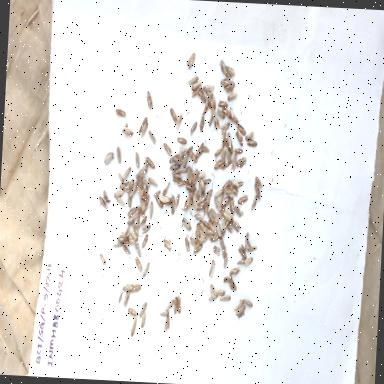pbw: (144, 88, 155, 110), (221, 78, 236, 94), (216, 199, 227, 219), (180, 192, 190, 214), (235, 153, 247, 171), (142, 154, 156, 169), (181, 216, 194, 232), (209, 205, 221, 222), (114, 144, 124, 164), (206, 258, 216, 278), (184, 50, 195, 68), (188, 86, 202, 100), (226, 181, 240, 195), (118, 178, 132, 192), (225, 277, 237, 293), (231, 216, 242, 233), (195, 198, 209, 211), (222, 207, 236, 220), (140, 260, 149, 280), (223, 144, 232, 164), (234, 296, 244, 314), (196, 88, 207, 104), (212, 112, 220, 134), (102, 150, 113, 166), (162, 313, 170, 335), (219, 118, 230, 134), (176, 142, 184, 164), (133, 150, 141, 172), (138, 300, 147, 319), (134, 172, 144, 189), (218, 158, 232, 170), (188, 234, 200, 248), (192, 210, 206, 222), (218, 292, 232, 304), (200, 214, 212, 228), (228, 264, 240, 278), (222, 186, 236, 198), (230, 152, 238, 173), (212, 157, 224, 171), (187, 186, 194, 210), (142, 180, 150, 201), (113, 107, 128, 118), (98, 195, 109, 210), (136, 215, 147, 230), (236, 242, 247, 257), (125, 177, 134, 195), (213, 220, 222, 238), (168, 194, 176, 214), (168, 107, 178, 123), (194, 142, 204, 158), (218, 58, 228, 74), (222, 136, 232, 152), (121, 166, 131, 182), (147, 128, 157, 144), (184, 164, 192, 184), (130, 316, 138, 336), (136, 163, 146, 179), (176, 162, 189, 174), (190, 78, 202, 91), (186, 73, 198, 86), (243, 128, 254, 142), (213, 144, 224, 158), (129, 180, 137, 199), (134, 182, 144, 197), (164, 297, 174, 312), (236, 121, 246, 136), (174, 112, 182, 130), (232, 178, 244, 190), (241, 255, 253, 267), (224, 64, 236, 76), (130, 282, 142, 294), (191, 167, 199, 185), (118, 229, 130, 241), (134, 256, 142, 274), (190, 192, 198, 210), (235, 130, 244, 146), (122, 125, 135, 136), (112, 188, 123, 201), (125, 213, 136, 226), (161, 237, 171, 251), (162, 142, 172, 156), (183, 182, 197, 192), (160, 182, 170, 196), (236, 304, 246, 318), (220, 194, 230, 208), (234, 203, 244, 217), (192, 243, 202, 257), (202, 82, 216, 92), (152, 194, 162, 208), (158, 194, 172, 204), (133, 241, 141, 258), (122, 290, 130, 307), (198, 219, 206, 236), (226, 90, 238, 101), (115, 196, 126, 208), (228, 194, 234, 216), (243, 297, 255, 308), (140, 222, 151, 234), (146, 174, 158, 185), (237, 193, 248, 205), (126, 306, 138, 317), (215, 108, 226, 120), (168, 161, 181, 171), (126, 205, 136, 218), (250, 194, 258, 210), (198, 175, 206, 191), (139, 122, 147, 138), (254, 184, 262, 200), (210, 106, 218, 122), (175, 296, 182, 314), (254, 175, 263, 189), (212, 187, 223, 198), (122, 244, 132, 256), (136, 204, 146, 216), (182, 144, 192, 156), (128, 229, 138, 241), (172, 296, 178, 316), (232, 144, 244, 154), (190, 119, 198, 134), (188, 150, 198, 162), (122, 283, 134, 293), (166, 154, 178, 164), (216, 98, 228, 108), (210, 92, 217, 109), (130, 222, 139, 235), (220, 213, 226, 232), (209, 283, 217, 297), (140, 312, 147, 328), (222, 105, 232, 116), (204, 226, 215, 236), (211, 244, 221, 255), (246, 244, 257, 254), (212, 197, 222, 208), (171, 175, 182, 185), (196, 169, 206, 180), (148, 202, 154, 220), (214, 287, 226, 296), (220, 128, 226, 146), (195, 222, 201, 240), (221, 243, 227, 260), (126, 190, 132, 207), (229, 114, 239, 124), (176, 134, 186, 144), (126, 234, 136, 244), (222, 274, 232, 284), (201, 176, 211, 186), (229, 176, 239, 186), (243, 231, 250, 245), (141, 234, 148, 248), (207, 220, 214, 234), (98, 252, 106, 264), (222, 178, 230, 190), (198, 116, 204, 132), (182, 152, 188, 168), (116, 171, 124, 183), (120, 122, 128, 134), (102, 188, 108, 204), (174, 192, 180, 208), (117, 290, 123, 306), (124, 222, 130, 238), (184, 237, 190, 253), (222, 253, 228, 269), (135, 212, 140, 231), (207, 112, 214, 125), (218, 236, 225, 249), (208, 292, 218, 301), (219, 78, 230, 86), (177, 180, 188, 188), (112, 240, 123, 248), (228, 106, 234, 120), (201, 102, 208, 114), (236, 257, 246, 265), (159, 308, 169, 316), (220, 147, 225, 163), (196, 180, 201, 196), (144, 195, 150, 208), (152, 189, 160, 198), (170, 171, 182, 177), (141, 177, 149, 186), (202, 144, 210, 153), (246, 140, 257, 146), (116, 236, 125, 242)
